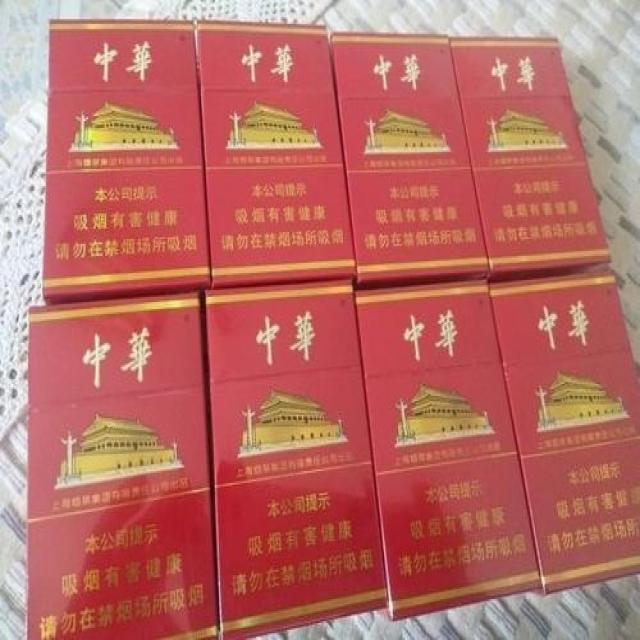box: (26, 292, 220, 640), (205, 280, 387, 638), (353, 280, 541, 625), (488, 270, 640, 597), (42, 19, 210, 305), (196, 22, 357, 288), (449, 36, 612, 283), (330, 34, 489, 287)
